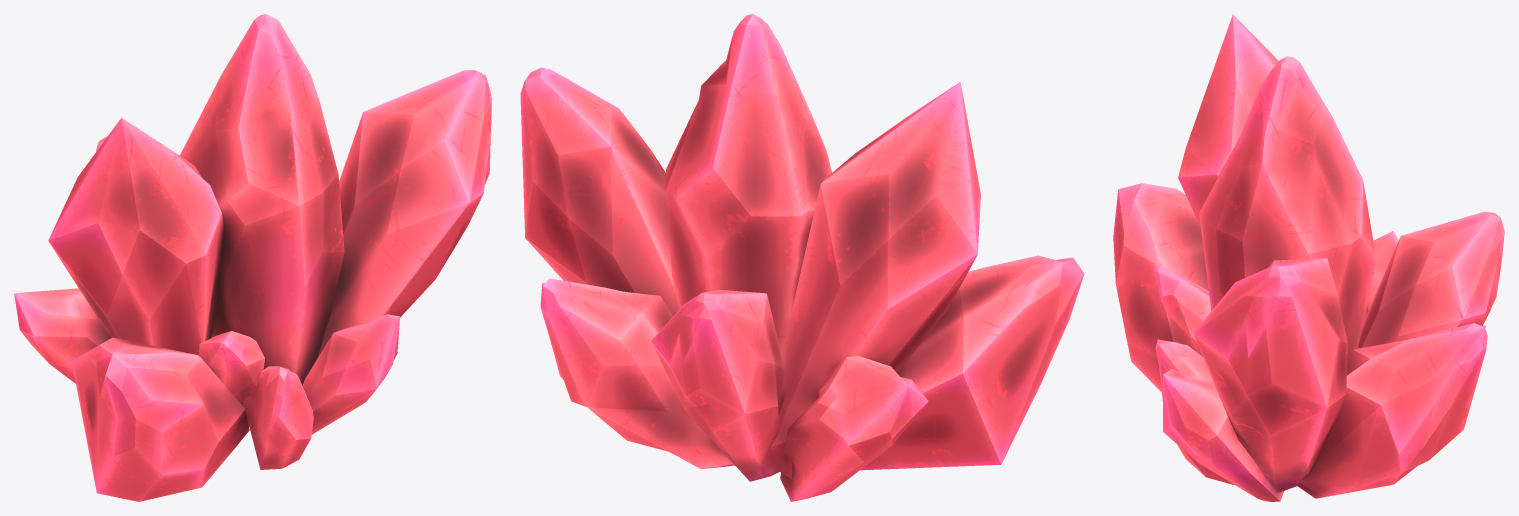
File: linemate.glb
The picture shows the model from 3 angles, left to right: view 1: azimuth 30°, elevation 25°; view 2: azimuth 150°, elevation 25°; view 3: azimuth 270°, elevation 25°; orthographic projection. The views are drawn at different scales.
Parts seen in each view (by area): view 1: Cylinder; view 2: Cylinder; view 3: Cylinder.
Boxes of the visible parts, x1,y1,x2,y2 form: Cylinder: [14, 14, 491, 501]; Cylinder: [520, 14, 1084, 501]; Cylinder: [1113, 14, 1504, 501].
Size of the model in its own units: 2.77 by 2.46 by 2.
1 material, 1 textured.
